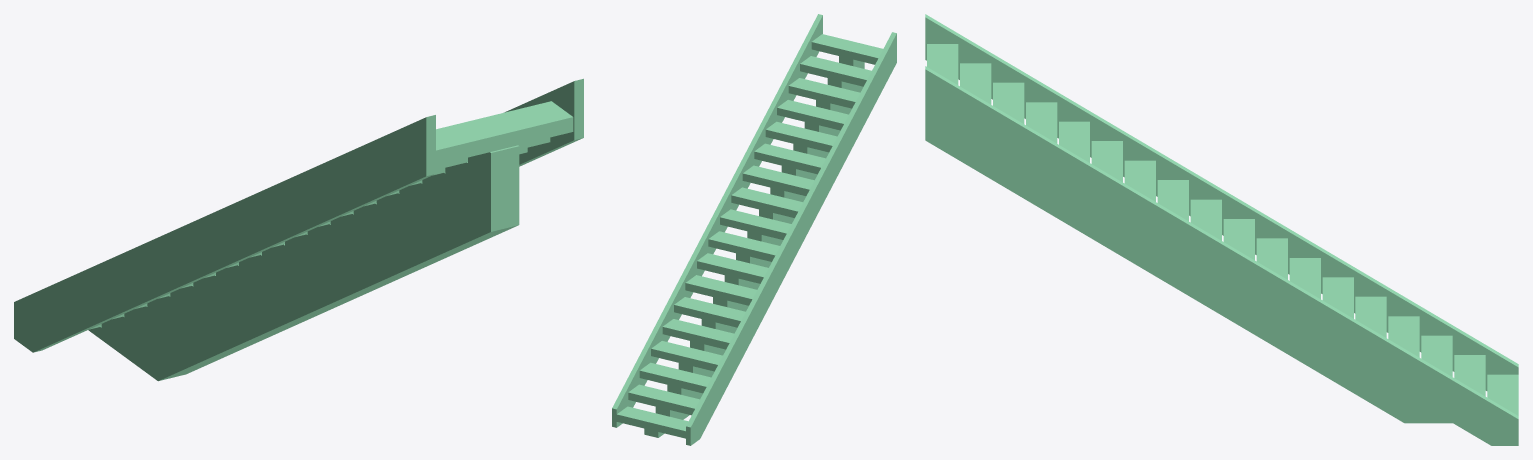
File: escalera.obj
The picture shows the model from 3 angles, left to right: view 1: azimuth 30°, elevation 25°; view 2: azimuth 150°, elevation 25°; view 3: azimuth 270°, elevation 25°; orthographic projection. The views are drawn at different scales.
Parts seen in each view (by area): view 1: StraightStair001; view 2: StraightStair001; view 3: StraightStair001.
Part boxes in pixels (x1,y1,x2,y2): StraightStair001: (14,78,583,381); StraightStair001: (612,14,896,445); StraightStair001: (925,14,1518,445).
Bounding box in the file's own units: 16.7 × 53.1 × 75.79.
